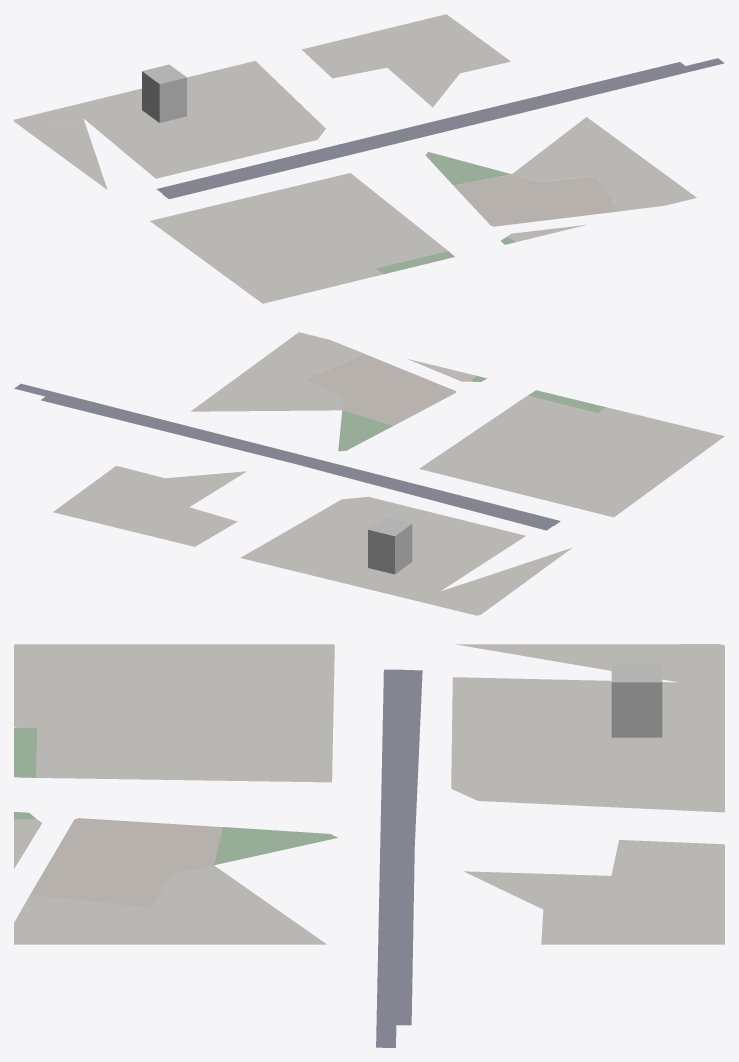
File: 102_103_mid.glb
3 renders of one model, top to bottom at view 1: azimuth 30°, elevation 25°; view 2: azimuth 150°, elevation 25°; view 3: azimuth 270°, elevation 25°, orthographic. The views are drawn at different scales.
Size of the model in its own units: 679 by 43.11 by 500.
